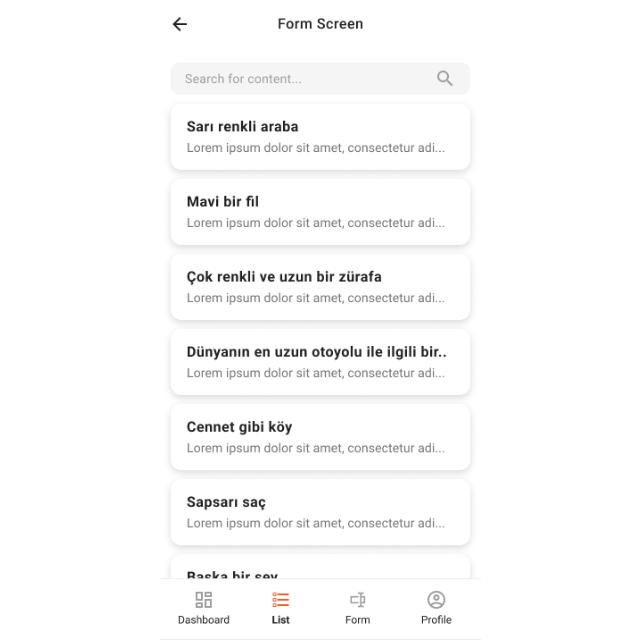QLabel: (182, 290, 446, 306), (184, 345, 448, 359), (183, 442, 447, 456), (184, 140, 446, 154), (184, 216, 446, 230), (182, 366, 448, 379), (183, 270, 387, 286), (184, 518, 446, 530), (185, 419, 292, 435), (182, 120, 302, 134), (274, 18, 364, 32), (184, 496, 268, 510), (183, 194, 261, 208), (182, 569, 278, 579), (176, 614, 230, 626), (421, 614, 454, 626), (344, 614, 371, 626), (269, 615, 291, 625)
VAppBar: (160, 1, 480, 41)
VBottomNavigation: (160, 580, 480, 640)
VCard: (168, 478, 472, 548), (168, 252, 470, 322), (169, 403, 471, 473), (166, 178, 472, 246), (168, 104, 470, 172), (169, 329, 471, 397), (168, 553, 470, 579)
VIcon: (268, 590, 290, 610), (192, 590, 212, 610), (425, 590, 445, 610), (168, 15, 188, 33), (346, 591, 366, 609)
VTextField: (169, 62, 471, 96)
